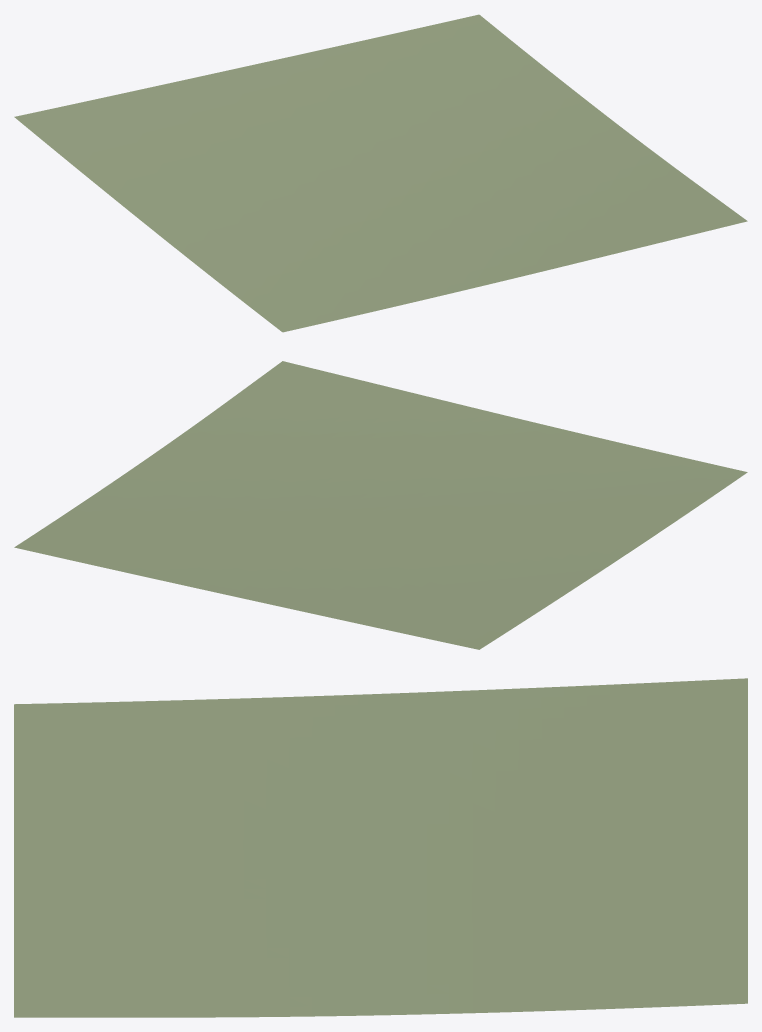
Rendered from desert-4-19.glb.
3 renders of one model, top to bottom at view 1: azimuth 30°, elevation 25°; view 2: azimuth 150°, elevation 25°; view 3: azimuth 270°, elevation 25°, orthographic. The views are drawn at different scales.
Visible parts, largest first — view 1: desert-4-19; view 2: desert-4-19; view 3: desert-4-19.
Part boxes in pixels (left/top/right/bottom): desert-4-19: left=14, top=14, right=747, bottom=332; desert-4-19: left=14, top=361, right=747, bottom=649; desert-4-19: left=14, top=678, right=747, bottom=1017.
Size of the model in its own units: 512 by 22.53 by 512.
